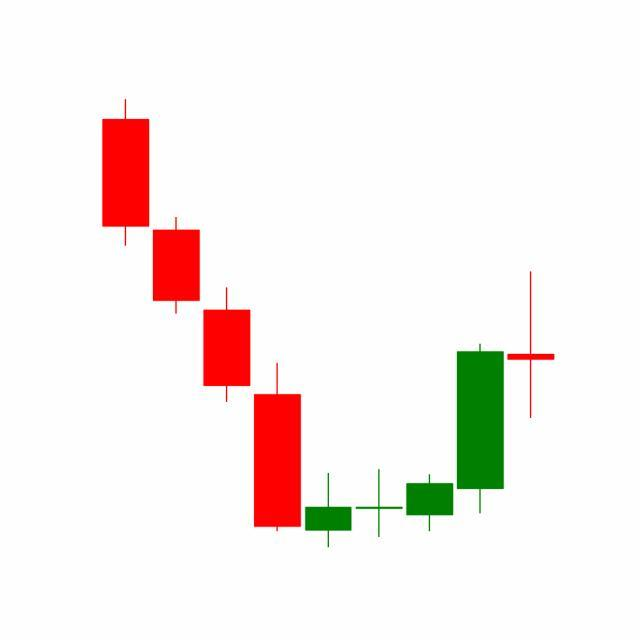Hikkake Pattern: (252, 340, 506, 548)
